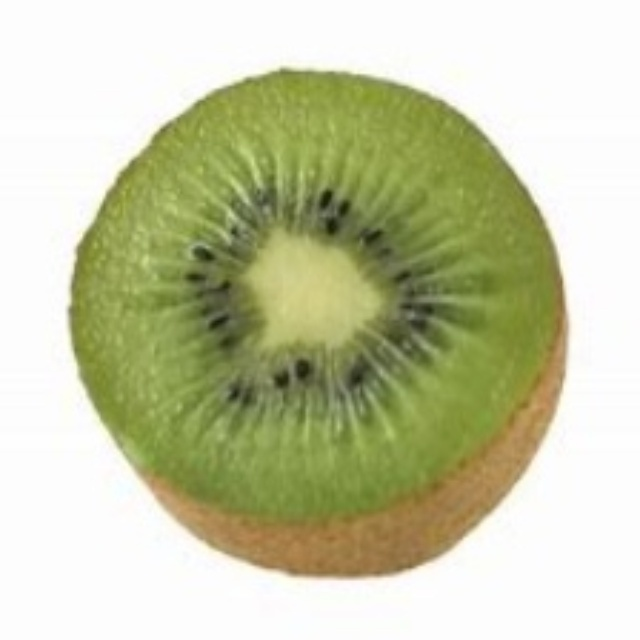kiwi: (64, 61, 567, 587)
